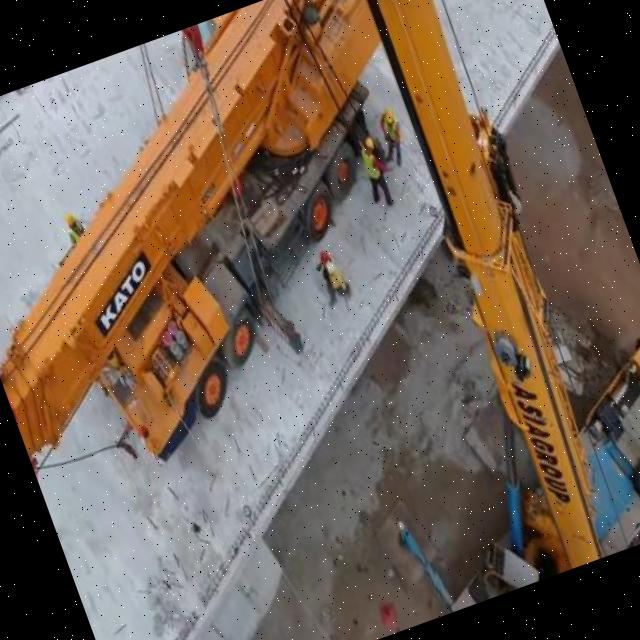Mobile Crane: (0, 0, 551, 519), (207, 0, 640, 622)
